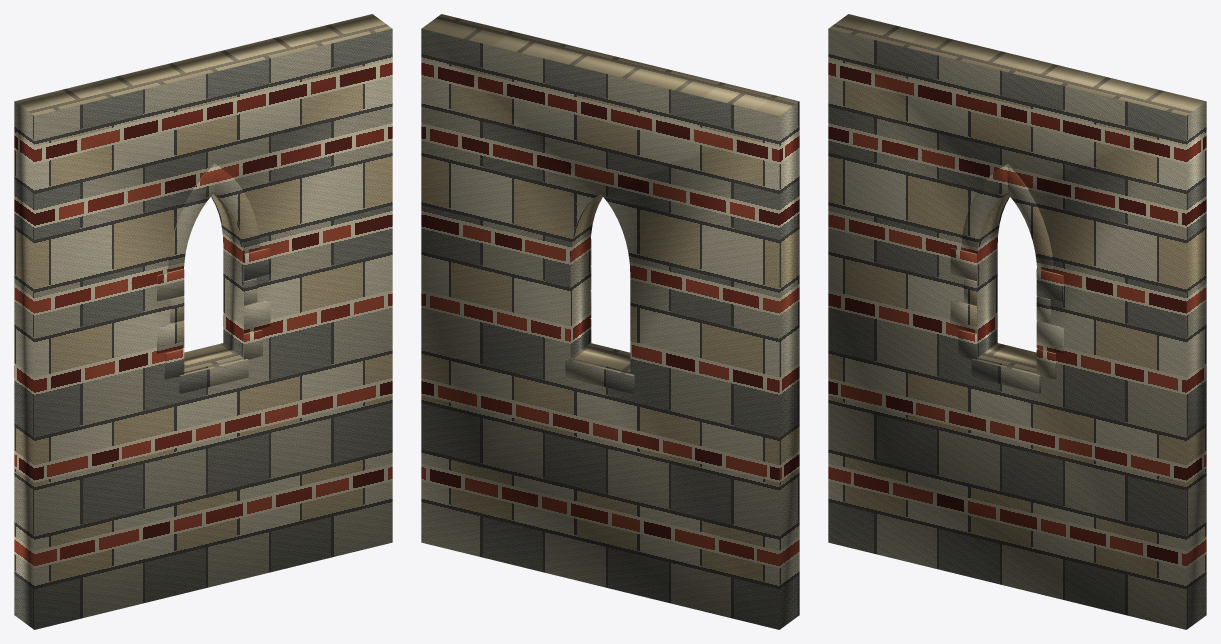
Rendered from byzantine stone wall window.glb.
The picture shows the model from 3 angles, left to right: view 1: azimuth 30°, elevation 25°; view 2: azimuth 150°, elevation 25°; view 3: azimuth 330°, elevation 25°; orthographic projection.
Visible parts, largest first — view 1: ByzSwap_stone_wall_window_Wall, WIndow - Arch; view 2: ByzSwap_stone_wall_window_Wall, WIndow - Arch; view 3: ByzSwap_stone_wall_window_Wall, WIndow - Arch.
Boxes of the visible parts, x1,y1,x2,y2 form: ByzSwap_stone_wall_window_Wall, WIndow - Arch: (14, 14, 392, 629); ByzSwap_stone_wall_window_Wall, WIndow - Arch: (421, 14, 799, 629); ByzSwap_stone_wall_window_Wall, WIndow - Arch: (828, 14, 1206, 629).
Size of the model in its own units: 2 by 2.74 by 0.225.
Materials: 3 (3 with a texture image).
